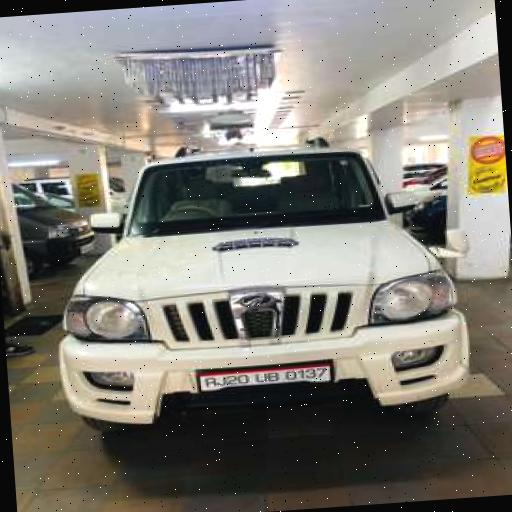license_plate`: (196, 362, 329, 391)
